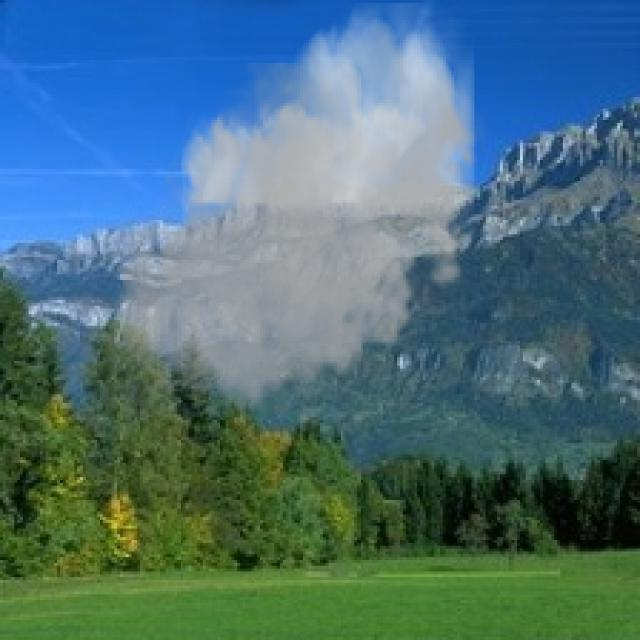smoke: (109, 3, 488, 428)
